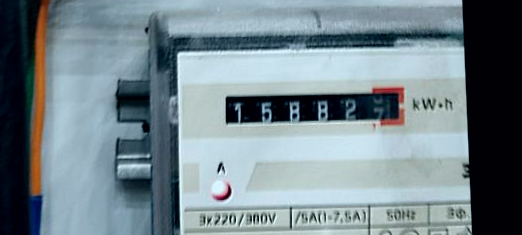1: (231, 100, 246, 123)
2: (342, 97, 359, 122)
5: (259, 99, 274, 124)
7: (372, 103, 385, 121)
8: (315, 99, 330, 123), (287, 100, 301, 123)
screen: (215, 79, 415, 142)
